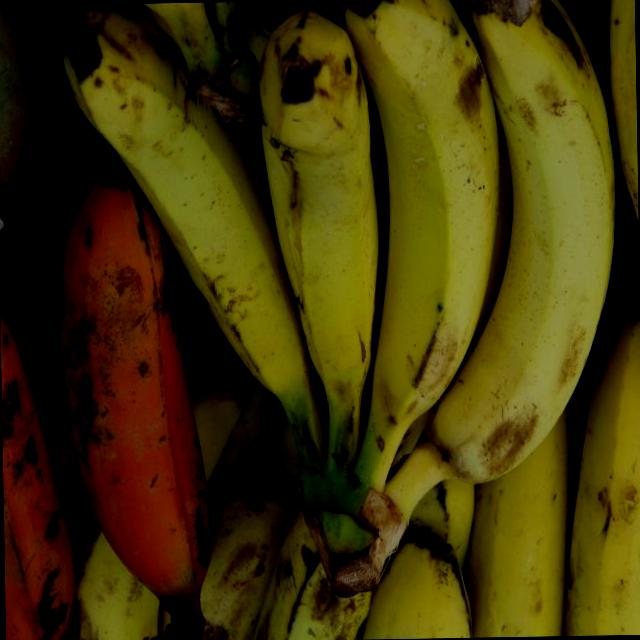Banana: (56, 0, 626, 598), (51, 178, 215, 638)
